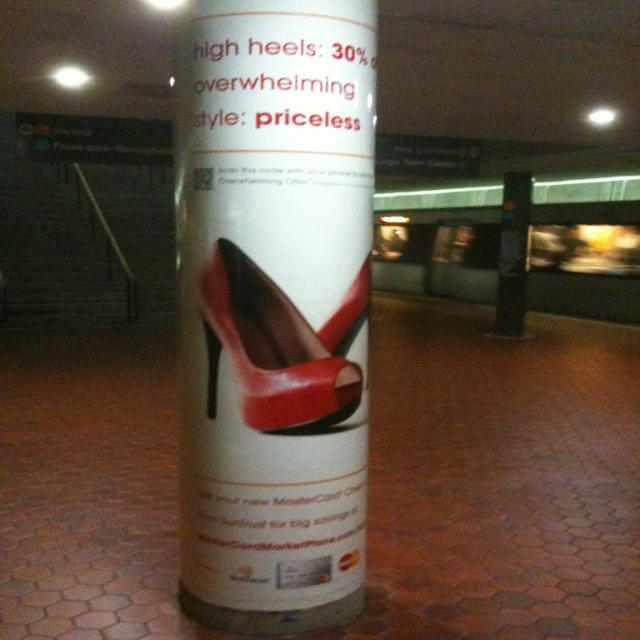qrcode: (194, 169, 215, 192)
